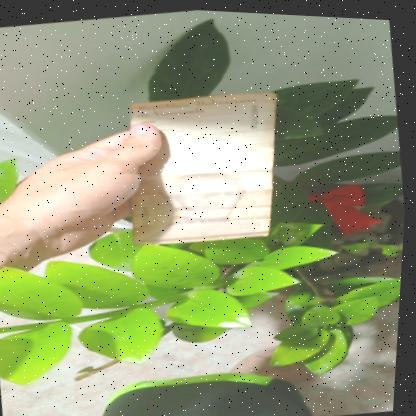five-front-vef: (115, 81, 297, 252)
